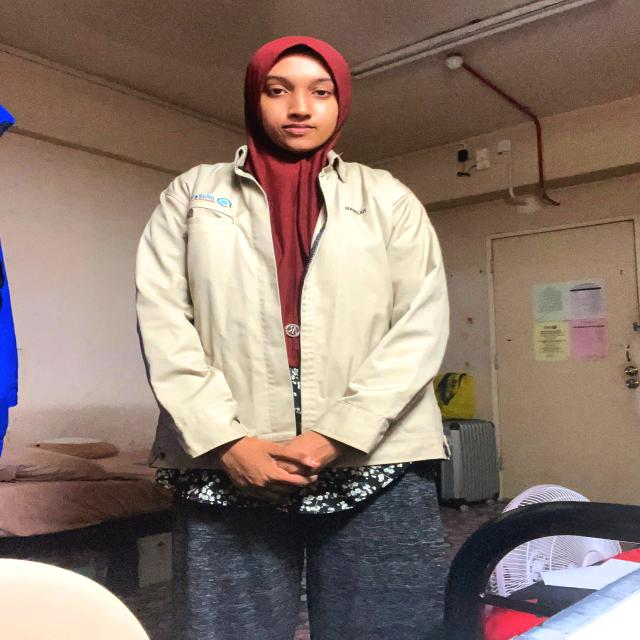person_with_labcoat: (136, 36, 449, 640)
